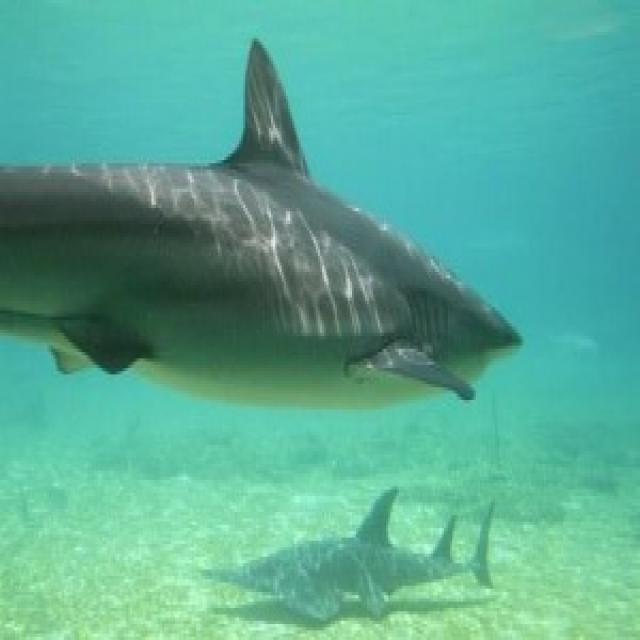Shark: (1, 24, 535, 432), (198, 472, 508, 624)
